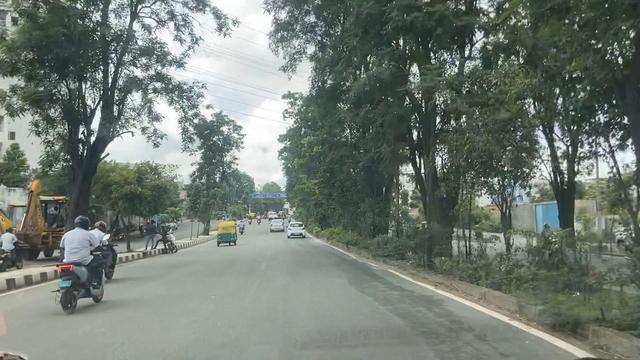LMV: (59, 214, 105, 301), (217, 220, 237, 244), (288, 221, 303, 239), (271, 218, 284, 233)
RoadDamages: (416, 329, 506, 359), (379, 297, 454, 322), (341, 253, 372, 284), (352, 288, 430, 296)
